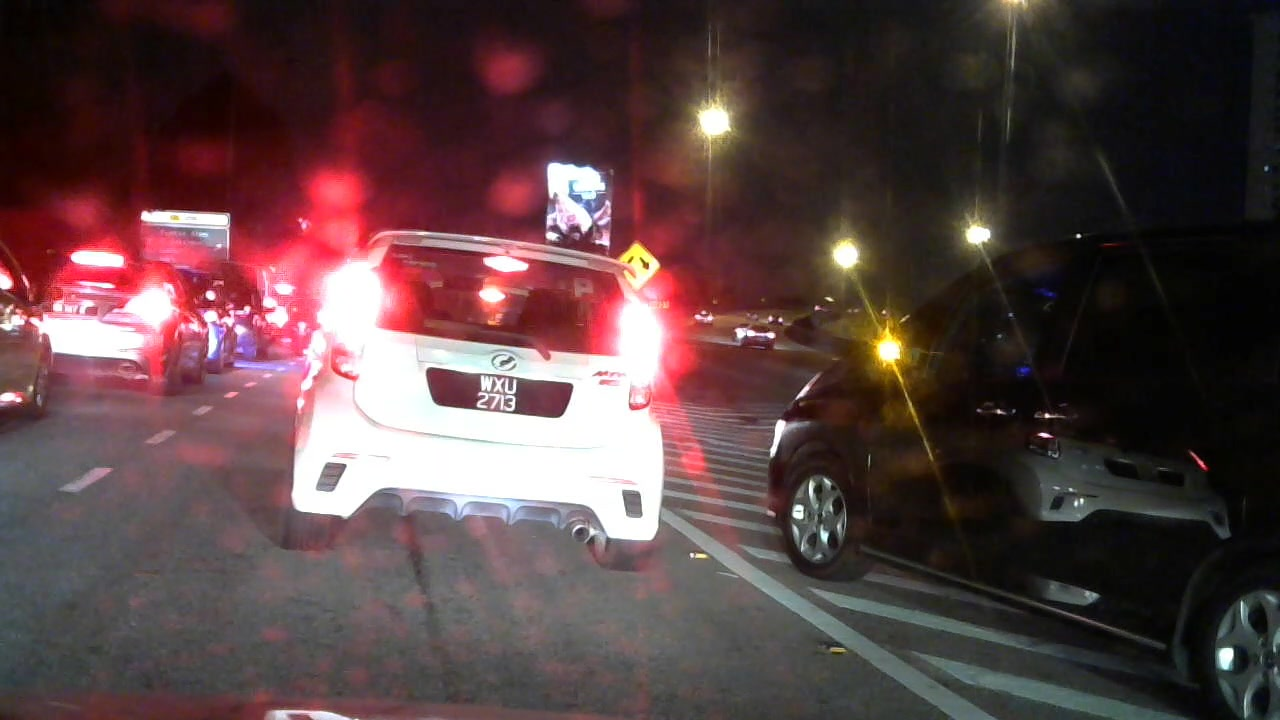Car: (756, 139, 1280, 715), (284, 213, 675, 602), (46, 234, 212, 396), (1, 248, 62, 435), (218, 260, 285, 359), (185, 258, 241, 375), (743, 324, 784, 356), (761, 305, 791, 334), (692, 303, 716, 335)
